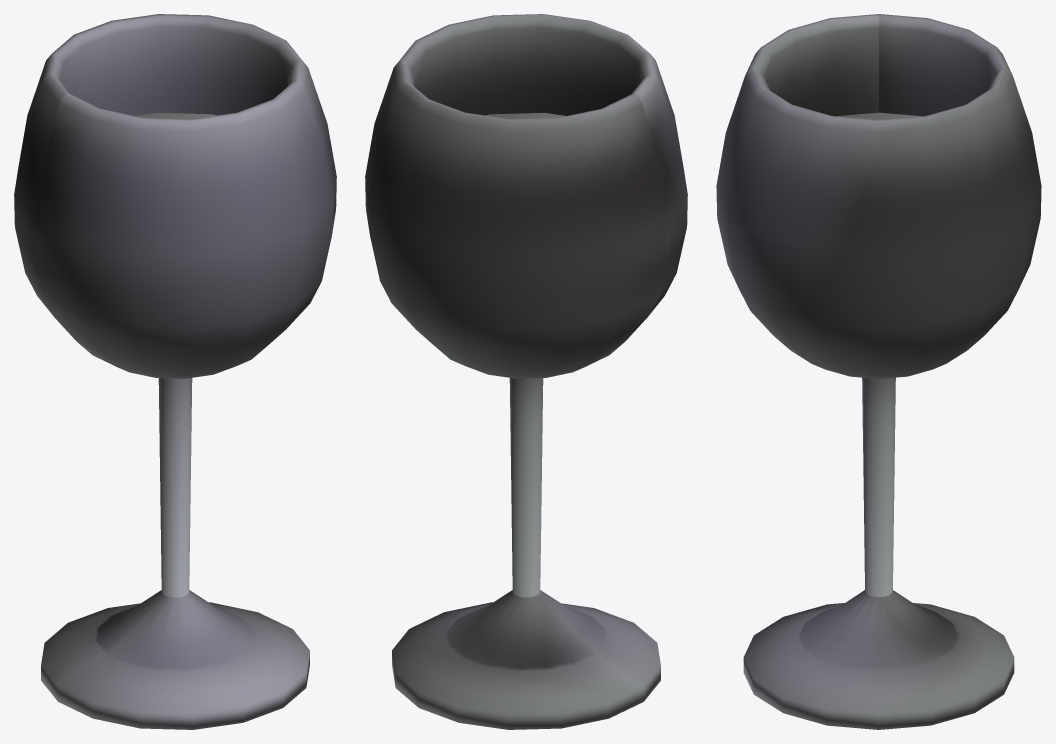
The model's file is wine-Glasses.fbx.
The picture shows the model from 3 angles, left to right: view 1: azimuth 30°, elevation 25°; view 2: azimuth 150°, elevation 25°; view 3: azimuth 270°, elevation 25°; orthographic projection.
Visible parts, largest first — view 1: wine-glass; view 2: wine-glass; view 3: wine-glass.
Part boxes in pixels (<box>): wine-glass: <box>14,14,336,729</box>; wine-glass: <box>365,14,687,729</box>; wine-glass: <box>716,14,1041,729</box>.
Bounding box in the file's own units: 0.4891 × 1 × 0.4891.
